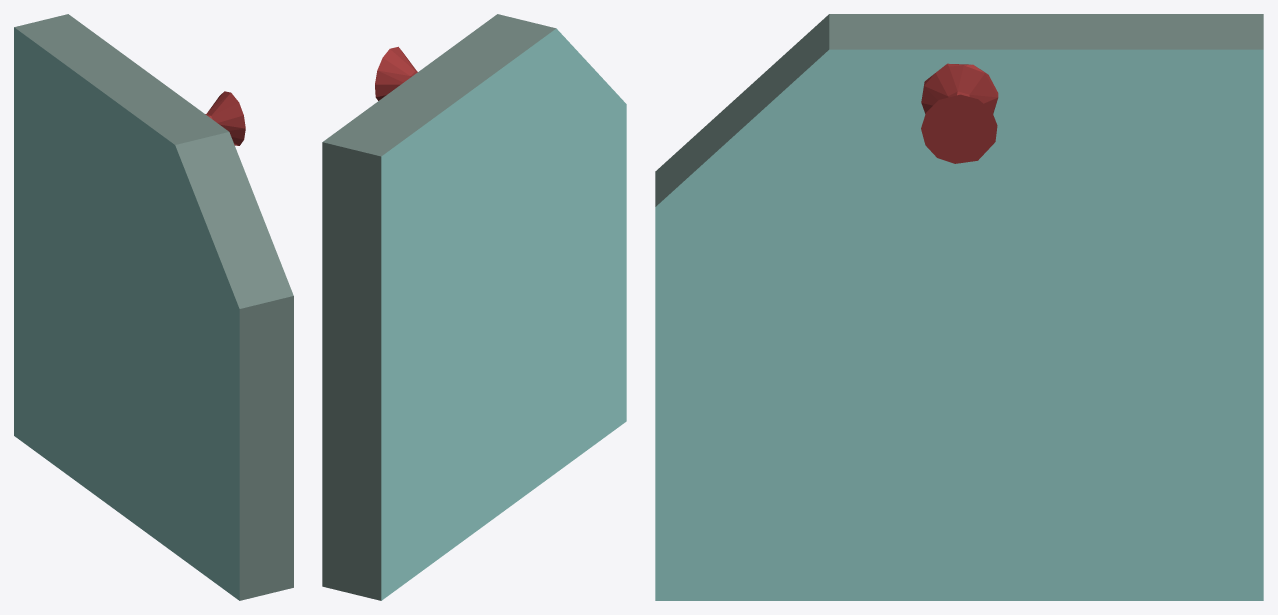
The model's file is post-it-c.glb.
The picture shows the model from 3 angles, left to right: view 1: azimuth 30°, elevation 25°; view 2: azimuth 150°, elevation 25°; view 3: azimuth 270°, elevation 25°; orthographic projection. The views are drawn at different scales.
Parts seen in each view (by area): view 1: Cube, Cylinder; view 2: Cube, Cylinder; view 3: Cube, Cylinder.
Part boxes in pixels (left/top/right/bottom): Cube: left=14, top=14, right=293, bottom=600; Cylinder: left=205, top=91, right=245, bottom=145; Cube: left=322, top=14, right=626, bottom=600; Cylinder: left=375, top=46, right=417, bottom=100; Cube: left=655, top=14, right=1263, bottom=600; Cylinder: left=921, top=63, right=998, bottom=163.
Bounding box in the file's own units: 0.5359 × 2 × 2.
